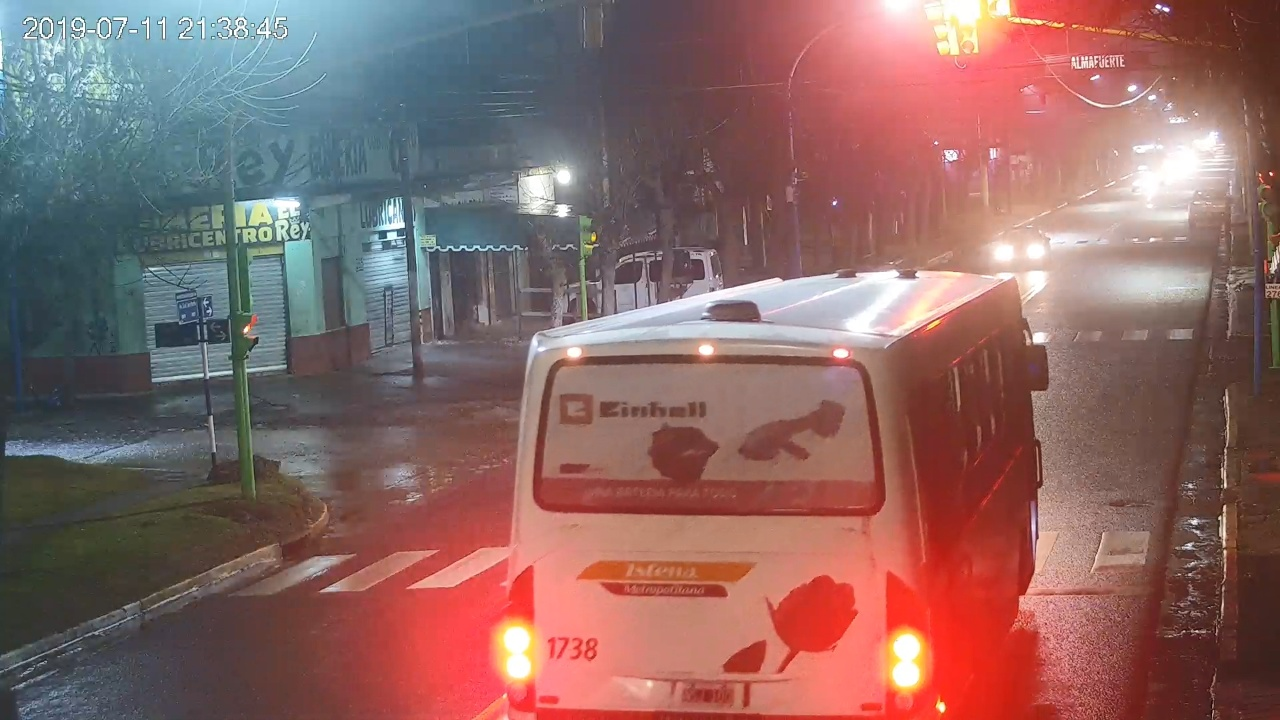bus: (507, 271, 1049, 718)
traffic light: (959, 10, 979, 54)
